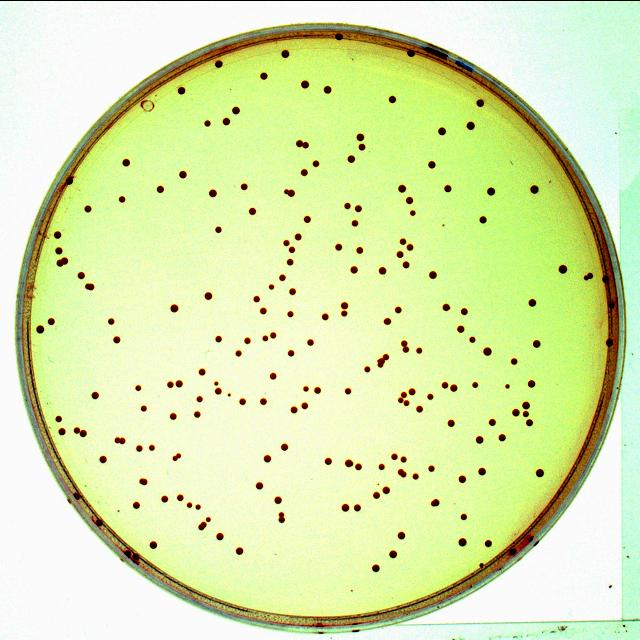colony: (56, 256, 68, 265), (172, 452, 181, 460), (559, 264, 568, 272), (115, 436, 125, 443), (236, 546, 244, 554), (390, 550, 398, 558), (66, 176, 74, 184), (260, 71, 268, 79), (301, 80, 309, 88), (356, 132, 364, 140), (341, 301, 349, 309), (442, 302, 450, 310), (522, 401, 530, 409), (584, 271, 592, 279), (85, 282, 94, 289), (170, 304, 179, 311), (530, 185, 539, 192), (484, 346, 491, 355), (150, 541, 158, 548), (199, 521, 206, 529), (216, 532, 224, 539), (91, 391, 99, 398), (36, 325, 44, 332), (341, 504, 349, 511), (372, 564, 380, 571), (398, 531, 405, 539), (55, 246, 62, 254), (54, 230, 61, 238), (122, 158, 130, 165), (205, 291, 212, 299), (178, 86, 185, 94), (232, 106, 240, 113), (281, 49, 289, 56), (468, 121, 475, 129), (439, 126, 446, 134), (335, 242, 342, 250), (350, 265, 358, 272), (402, 260, 409, 268), (379, 266, 386, 274), (429, 270, 436, 278), (488, 186, 495, 194), (281, 442, 288, 450), (398, 469, 406, 476), (536, 469, 544, 476), (476, 435, 484, 442), (378, 358, 385, 366), (139, 478, 148, 484), (459, 538, 466, 545), (78, 271, 85, 278), (209, 189, 216, 196), (335, 32, 342, 39), (324, 85, 331, 92), (389, 95, 396, 102), (302, 141, 309, 148), (288, 189, 295, 196), (399, 184, 406, 191), (301, 401, 308, 408), (345, 459, 352, 466), (391, 452, 398, 459), (412, 472, 419, 479), (459, 475, 466, 482), (448, 419, 455, 426), (602, 275, 609, 282), (256, 481, 262, 489), (431, 499, 439, 505), (382, 486, 390, 492), (180, 170, 186, 178), (222, 118, 230, 124), (476, 99, 484, 105), (429, 160, 435, 168), (396, 250, 404, 256), (450, 384, 458, 390), (512, 409, 520, 415), (609, 300, 615, 308), (74, 492, 80, 499), (100, 455, 106, 462), (80, 429, 86, 436), (161, 495, 168, 501), (114, 335, 120, 342), (170, 412, 176, 419), (354, 504, 361, 510), (461, 512, 468, 518), (215, 225, 221, 232), (241, 182, 248, 188), (215, 60, 222, 66), (408, 49, 415, 55), (359, 142, 365, 149), (348, 155, 355, 161), (296, 139, 302, 146), (312, 160, 319, 166), (301, 169, 308, 175), (249, 208, 256, 214), (355, 204, 361, 211), (445, 184, 451, 191), (304, 215, 311, 221), (295, 232, 301, 239), (322, 312, 329, 318), (384, 318, 391, 324), (461, 308, 468, 314), (480, 215, 486, 222), (529, 299, 536, 305), (270, 331, 276, 338), (270, 372, 276, 379), (291, 406, 298, 412), (264, 455, 271, 461), (355, 462, 361, 469), (379, 462, 385, 469), (479, 468, 486, 474), (489, 419, 496, 425), (402, 345, 409, 351), (442, 381, 449, 387), (511, 358, 518, 364), (528, 380, 535, 386), (522, 410, 529, 416), (606, 338, 612, 345), (125, 550, 131, 556), (96, 519, 102, 525), (134, 501, 140, 507), (59, 428, 65, 434), (74, 426, 80, 432), (136, 445, 142, 451), (149, 444, 155, 450), (178, 494, 184, 500), (135, 384, 141, 390), (194, 410, 200, 416), (275, 496, 281, 502), (279, 516, 285, 522), (485, 540, 491, 546), (374, 491, 380, 497), (85, 205, 91, 211), (119, 195, 125, 201), (158, 185, 164, 191), (176, 380, 182, 386), (284, 188, 290, 194), (406, 196, 412, 202), (254, 295, 260, 301), (288, 310, 294, 316), (356, 246, 362, 252), (400, 238, 406, 244), (408, 244, 414, 250), (395, 306, 401, 312), (215, 335, 221, 341), (199, 368, 205, 374), (196, 395, 202, 401), (215, 388, 221, 394), (308, 339, 314, 345), (260, 398, 266, 404), (315, 386, 321, 392), (345, 388, 351, 394), (325, 458, 331, 464), (429, 465, 435, 471), (499, 434, 505, 440), (416, 405, 422, 411), (409, 388, 415, 394), (416, 346, 422, 352), (458, 325, 464, 331), (534, 340, 540, 346), (526, 419, 532, 425), (48, 318, 55, 323), (289, 288, 296, 293), (341, 310, 348, 315), (382, 354, 389, 359), (401, 340, 408, 345), (56, 415, 61, 421), (168, 381, 174, 386), (345, 202, 350, 208), (352, 219, 358, 224), (284, 239, 289, 245), (289, 246, 295, 251), (288, 259, 294, 264), (279, 274, 285, 279), (260, 308, 266, 313), (262, 335, 268, 340), (288, 350, 294, 355), (240, 398, 246, 403), (399, 396, 404, 402), (401, 391, 406, 397), (365, 365, 370, 371), (472, 381, 478, 386), (206, 516, 211, 521), (141, 405, 146, 410), (279, 511, 284, 516), (109, 318, 114, 323), (205, 120, 210, 125), (410, 210, 415, 215), (269, 284, 274, 289), (214, 380, 219, 385), (236, 350, 241, 355), (304, 385, 309, 390), (401, 456, 406, 461), (404, 400, 409, 405), (470, 336, 475, 341), (188, 501, 192, 506), (245, 338, 250, 342), (196, 504, 200, 508), (479, 562, 483, 566), (505, 384, 509, 388)
